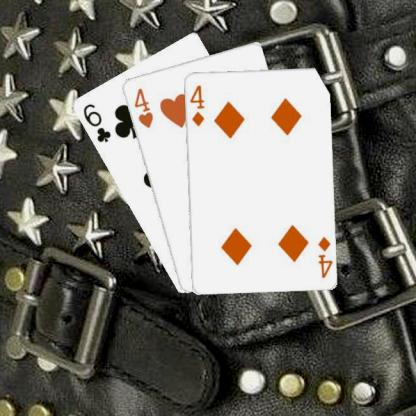4D: (187, 82, 205, 127), (315, 233, 332, 279)
4H: (131, 85, 154, 129)
6C: (79, 100, 112, 144)
